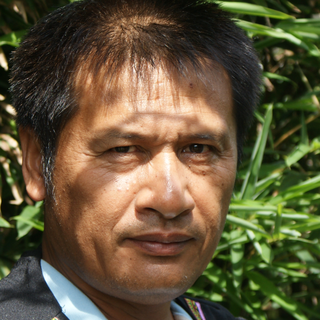eye: (171, 136, 222, 164), (93, 138, 148, 162)
